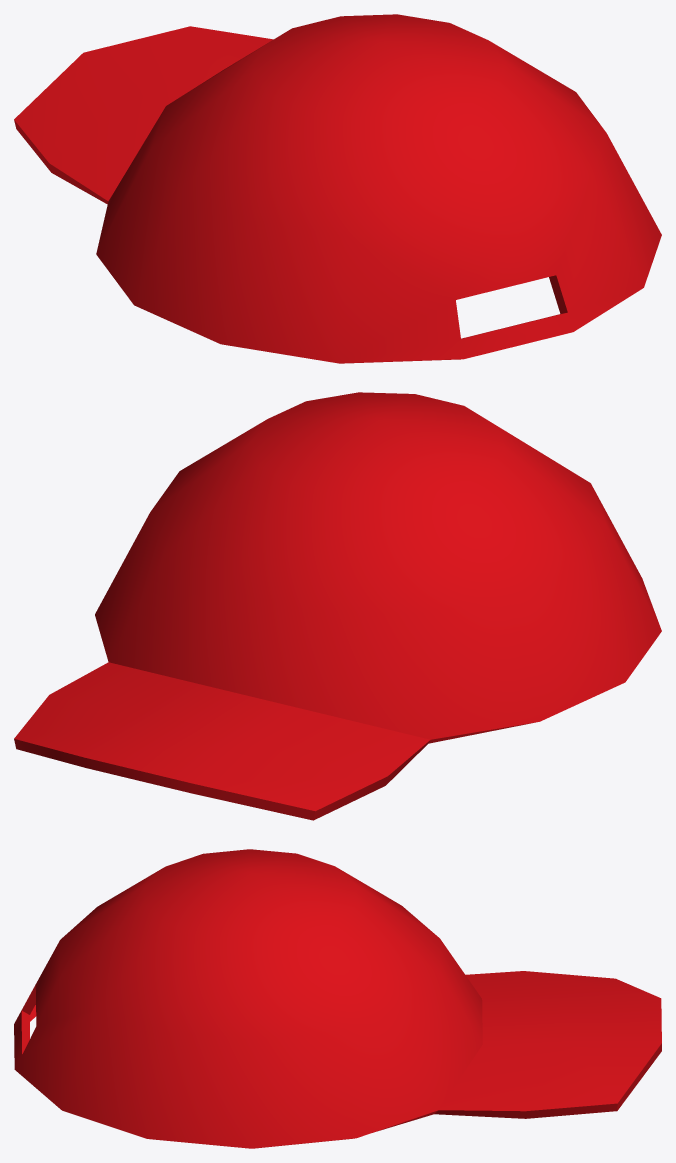
Rendered from Cap.fbx.
3 views of the same model, one above another, from view 1: azimuth 30°, elevation 25°; view 2: azimuth 150°, elevation 25°; view 3: azimuth 270°, elevation 25° (orthographic). The views are drawn at different scales.
Visible parts, largest first — view 1: Topi; view 2: Topi; view 3: Topi.
Part boxes in pixels (bbox=[...]): Topi: bbox=[14, 14, 661, 363]; Topi: bbox=[14, 392, 661, 820]; Topi: bbox=[14, 849, 661, 1148].
Size of the model in its own units: 202 by 81.75 by 270.
